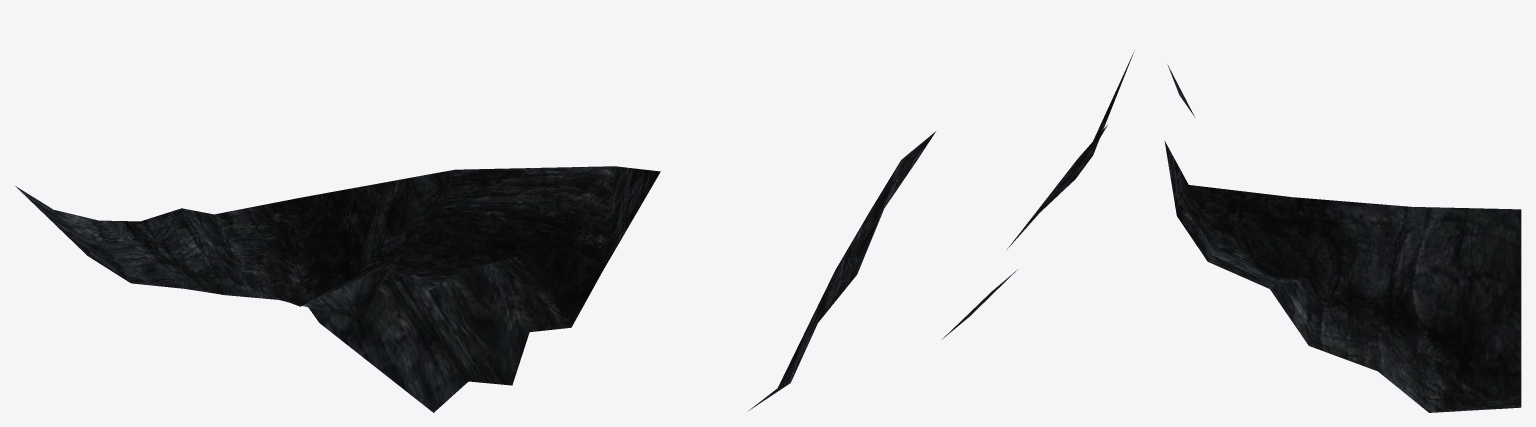
The picture shows the model from 3 angles, left to right: view 1: azimuth 30°, elevation 25°; view 2: azimuth 150°, elevation 25°; view 3: azimuth 270°, elevation 25°; orthographic projection. The views are drawn at different scales.
Visible parts, largest first — view 1: model_Object30; view 2: model_Object30; view 3: model_Object30.
Part boxes in pixels (box(x1,y1,x2,y2)): model_Object30: box(15, 166, 660, 412); model_Object30: box(749, 52, 1133, 410); model_Object30: box(1164, 64, 1521, 412).
Bounding box in the file's own units: 3.82 × 3.58 × 3.95.
1 material, 1 textured.
